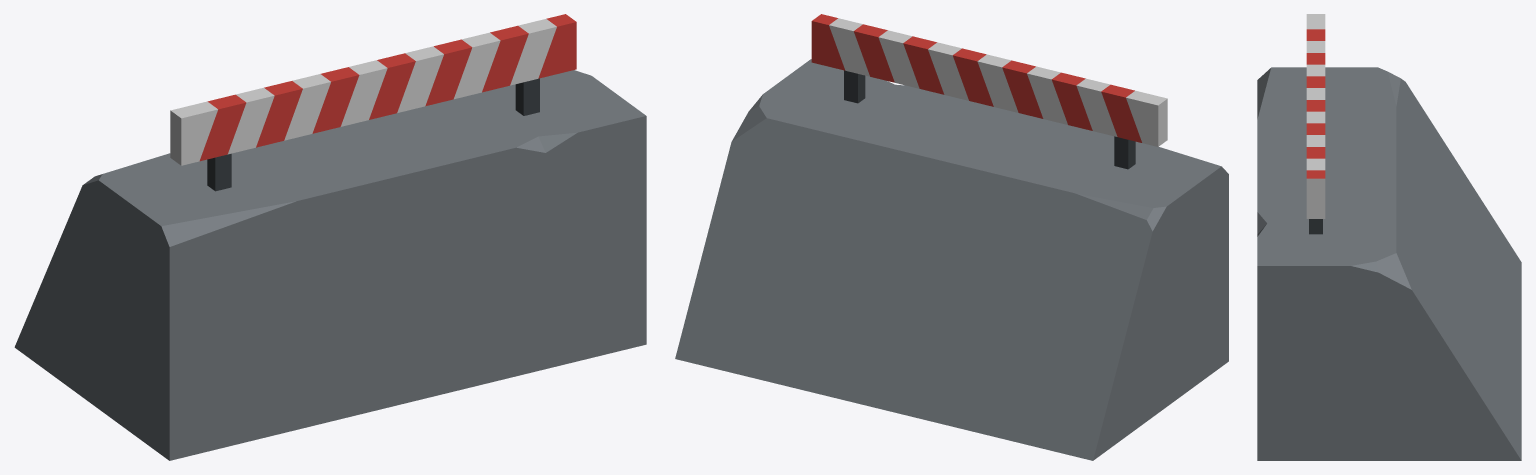
The model's file is RailwayPart_01.fbx.
The picture shows the model from 3 angles, left to right: view 1: azimuth 30°, elevation 25°; view 2: azimuth 150°, elevation 25°; view 3: azimuth 270°, elevation 25°; orthographic projection. The views are drawn at different scales.
Visible parts, largest first — view 1: RailwayPart_01; view 2: RailwayPart_01; view 3: RailwayPart_01.
Part boxes in pixels (<box>): RailwayPart_01: <box>14,14,646,460</box>; RailwayPart_01: <box>675,14,1228,460</box>; RailwayPart_01: <box>1257,14,1521,460</box>.
Size of the model in its own units: 274 by 171 by 154.
